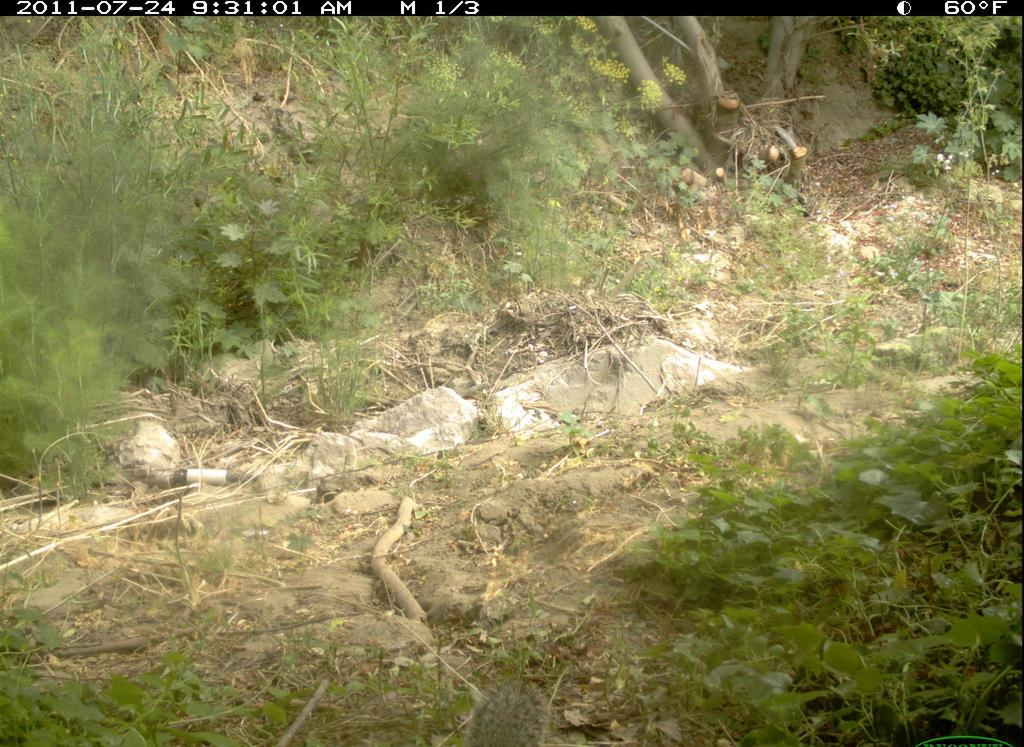squirrel: (454, 664, 559, 747)
